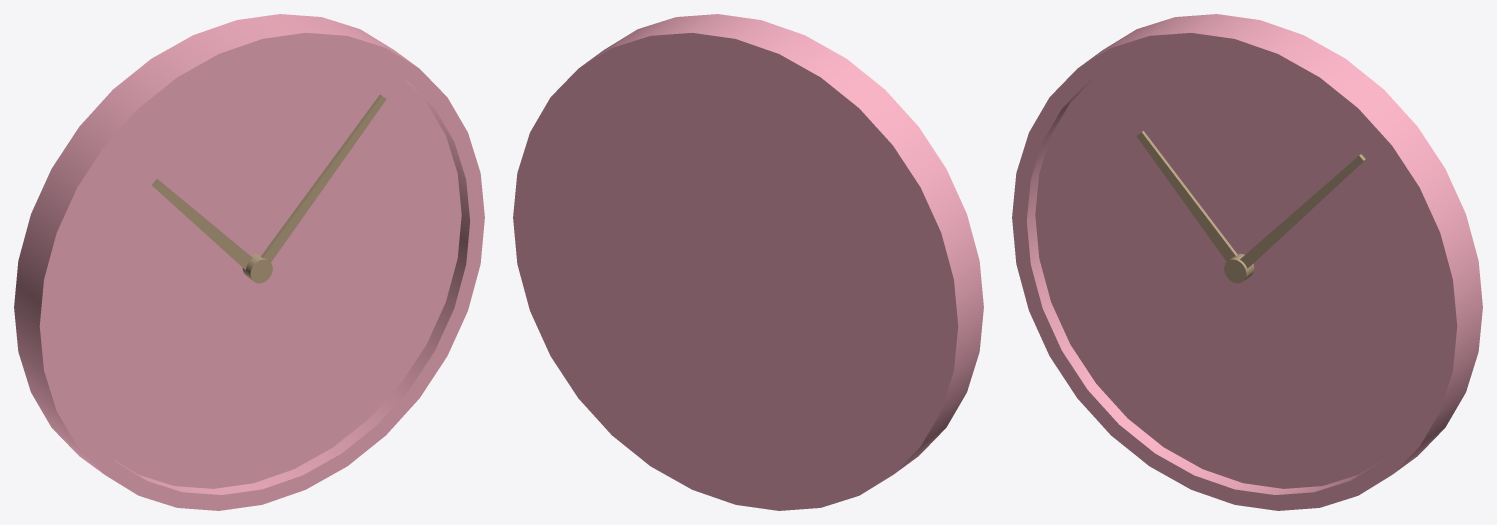
The model's file is wallclock.fbx.
The picture shows the model from 3 angles, left to right: view 1: azimuth 30°, elevation 25°; view 2: azimuth 150°, elevation 25°; view 3: azimuth 330°, elevation 25°; orthographic projection.
Parts seen in each view (by area): view 1: kellotaulu, kello; view 2: kello; view 3: kellotaulu, kello.
Part boxes in pixels (x1=…): kellotaulu: x1=54, y1=48, x2=461, y2=488; kello: x1=14, y1=14, x2=484, y2=510; kello: x1=513, y1=14, x2=983, y2=510; kellotaulu: x1=1035, y1=48, x2=1442, y2=488; kello: x1=1012, y1=14, x2=1482, y2=510.
Bounding box in the file's own units: 0.4 × 0.4 × 0.04.
